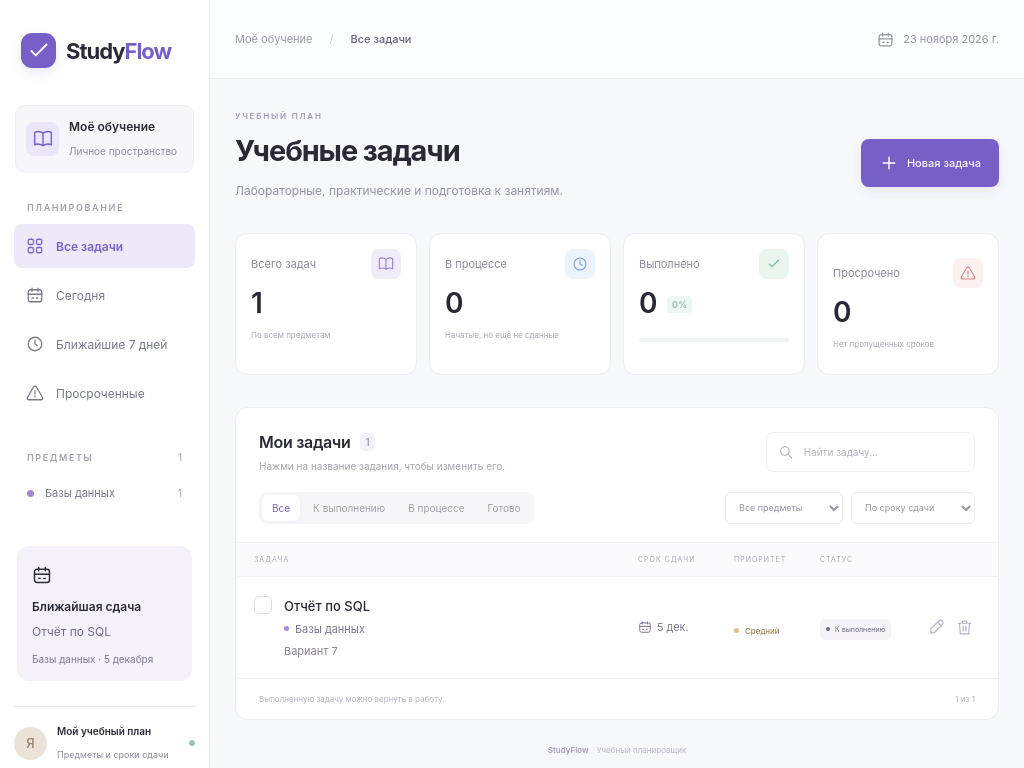
it: Работа с заданиями › редактирует существующую задачу без передачи id и служебных дат в API
This screenshot has width=1024, height=768.
Click the button "Отчёт по SQL" at {"x": 327, "y": 606}, box [284,595,370,617]
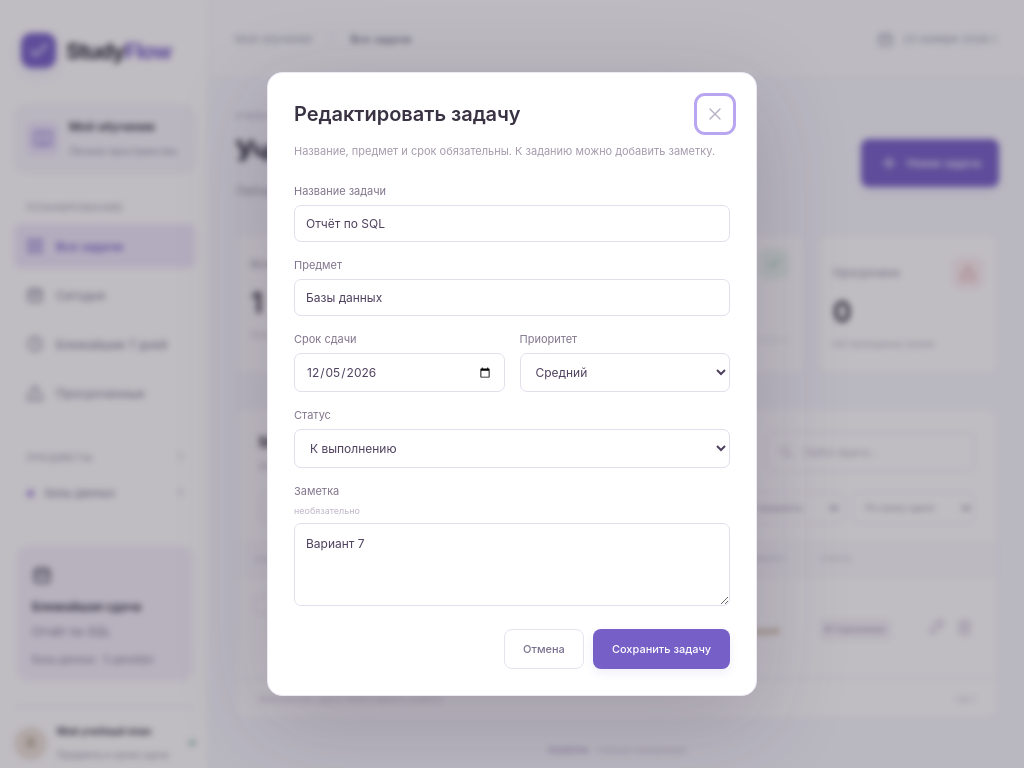
Replace the text in the field labelled "Название задачи" with "SQL и индексы" at {"x": 512, "y": 224}, box [294,205,730,242]
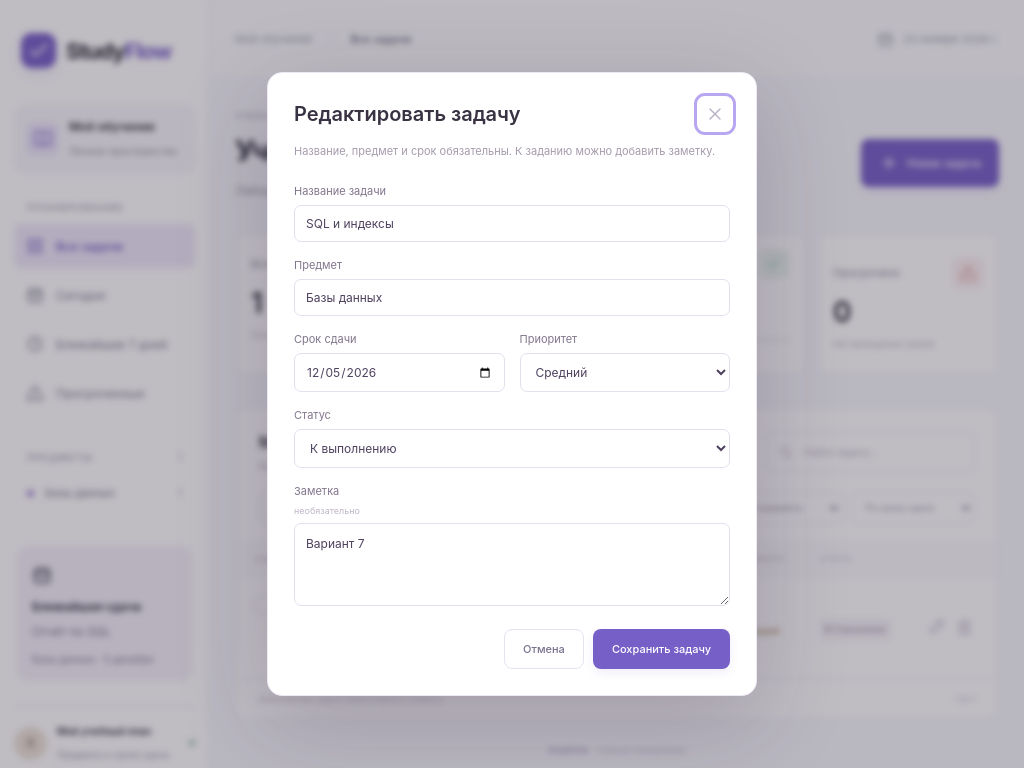
Type "2026-12-07" into the date field labelled "Срок сдачи" at {"x": 399, "y": 373}, box [294,353,504,392]
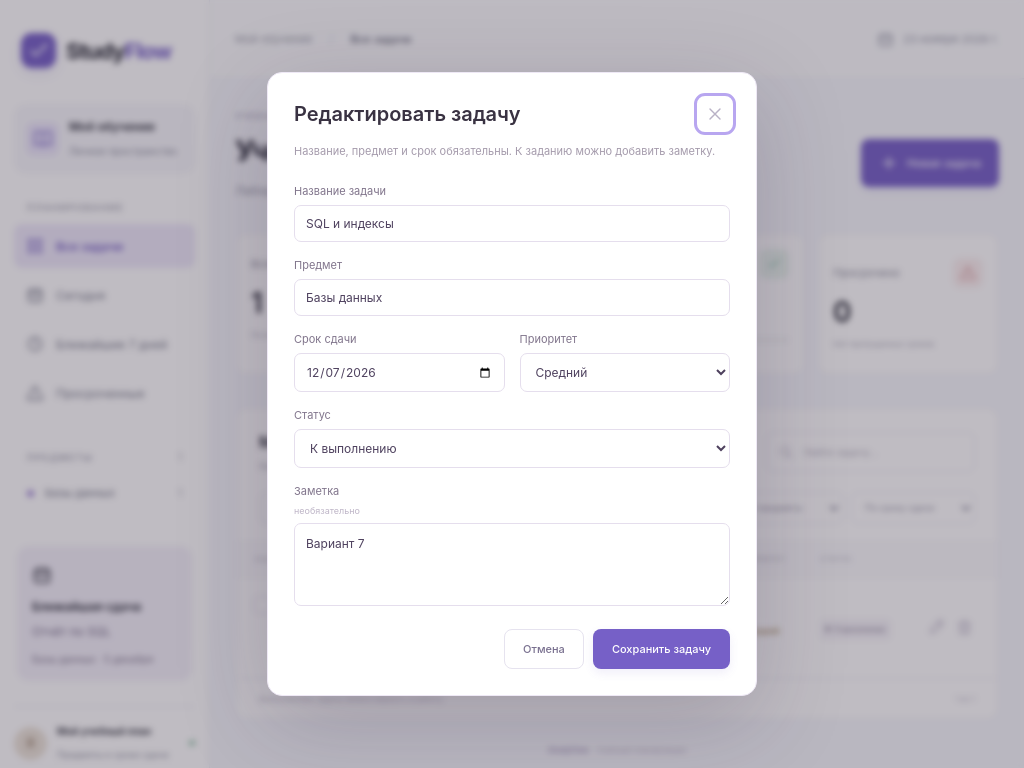
Select "В процессе" in the dropdown labelled "Статус" at {"x": 512, "y": 449}, box [294,429,730,468]
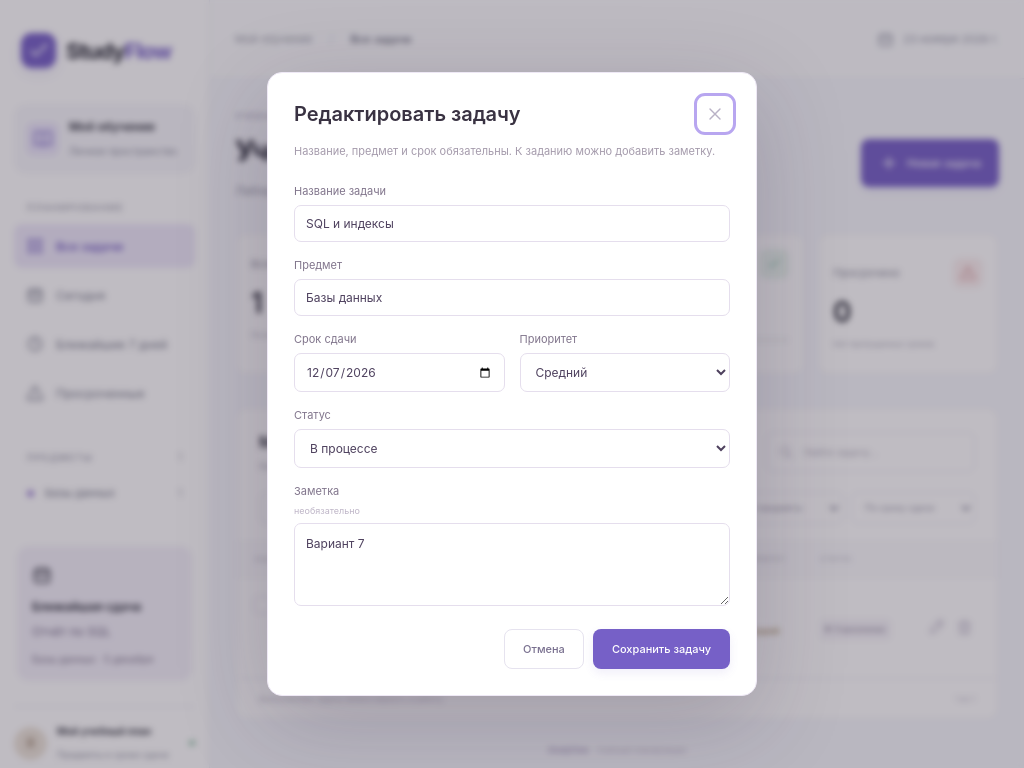
Click the button "Сохранить задачу" at {"x": 661, "y": 650}, box [593,630,730,670]
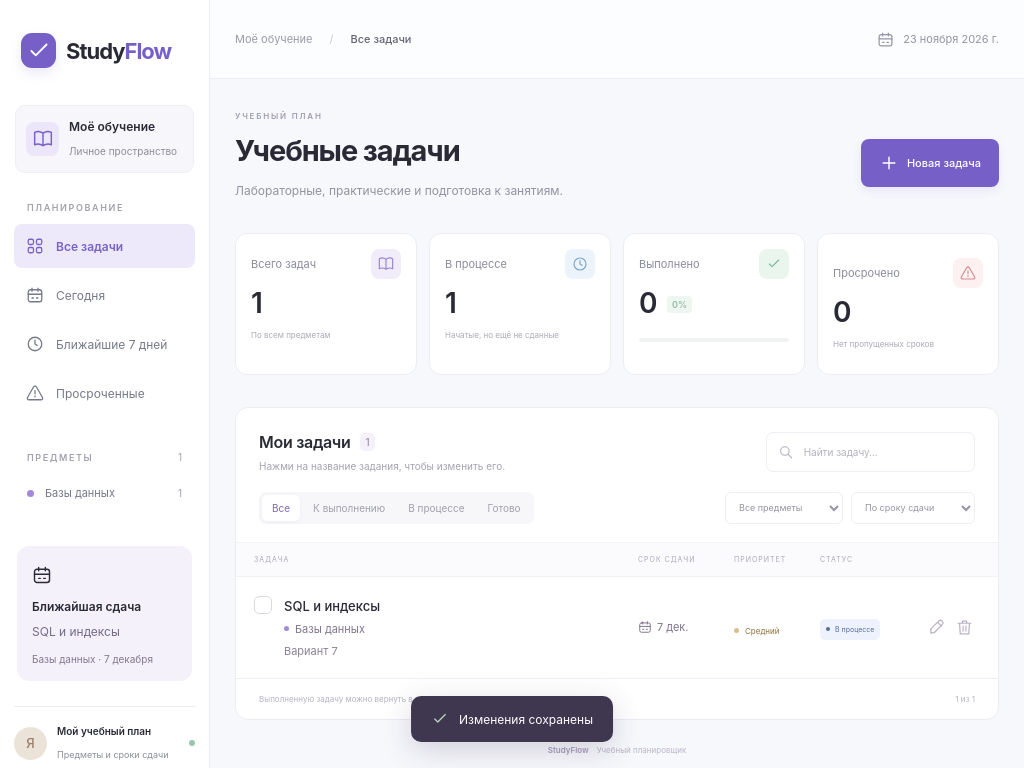
Result: the button "SQL и индексы" is shown at [284,595,380,617]
